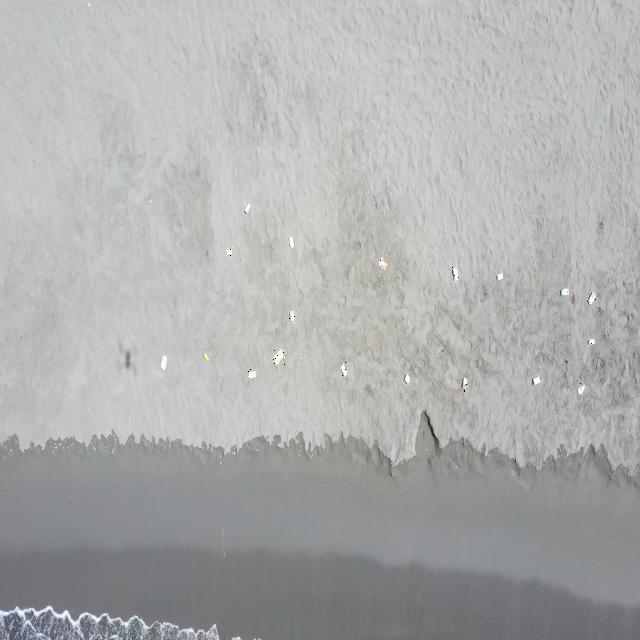retort-pouch: (274, 347, 286, 367), (378, 255, 388, 272), (160, 354, 168, 372), (451, 266, 459, 284), (587, 291, 596, 307), (248, 368, 257, 381), (532, 374, 541, 387), (342, 361, 349, 377), (577, 383, 585, 397), (461, 376, 468, 392), (560, 287, 569, 299), (288, 309, 295, 324), (225, 245, 233, 258), (203, 350, 210, 364), (244, 202, 251, 216), (496, 270, 504, 282), (404, 372, 410, 387), (587, 337, 595, 347), (288, 236, 294, 249)
